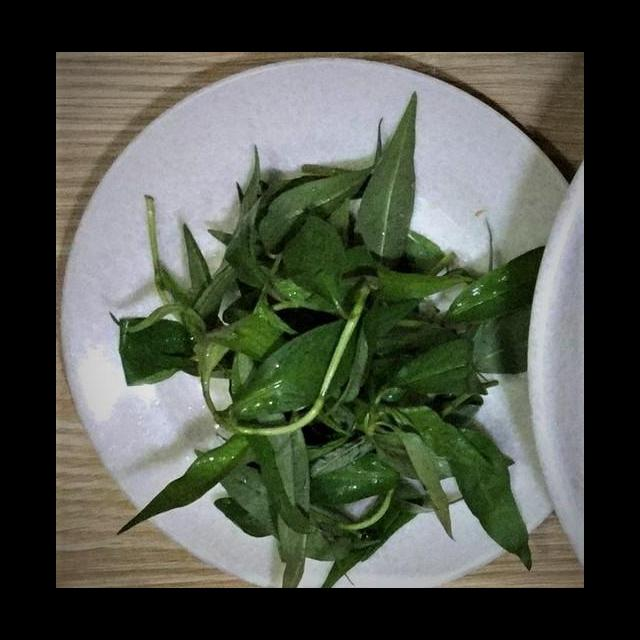rau ram: (106, 86, 549, 588)
